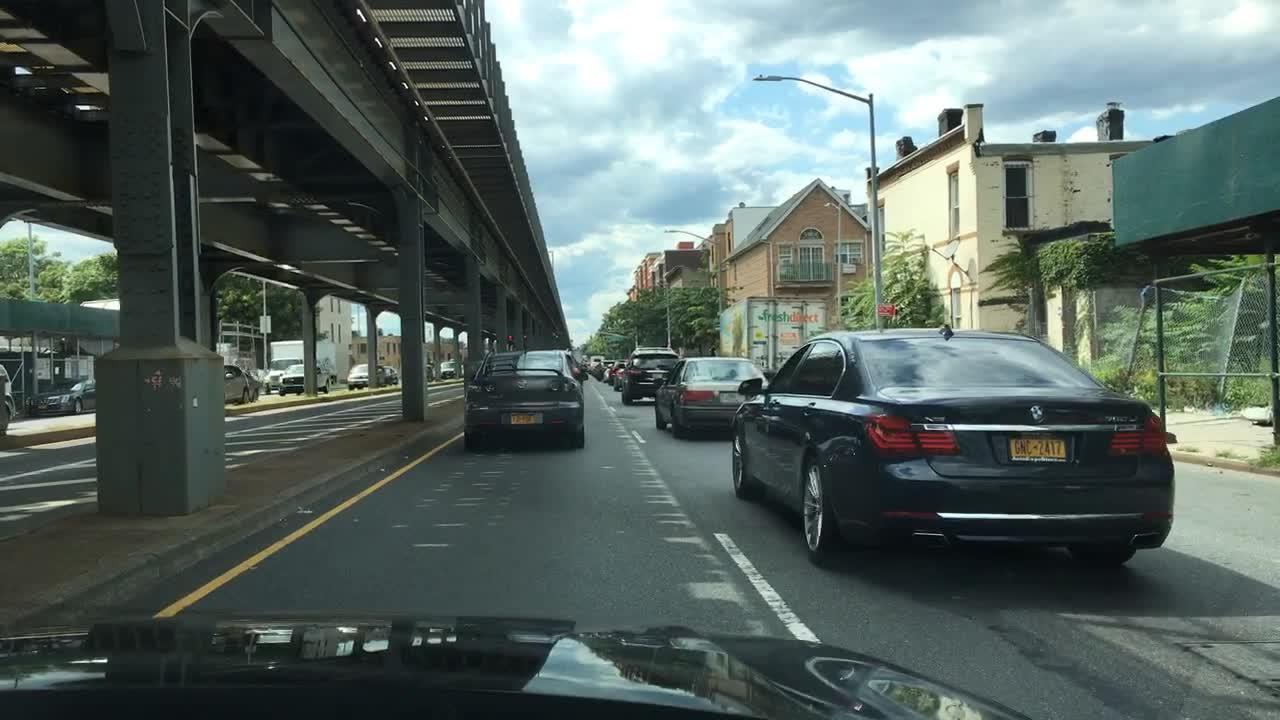Mazda: (515, 376, 529, 390)
bmw: (1024, 402, 1047, 424)
